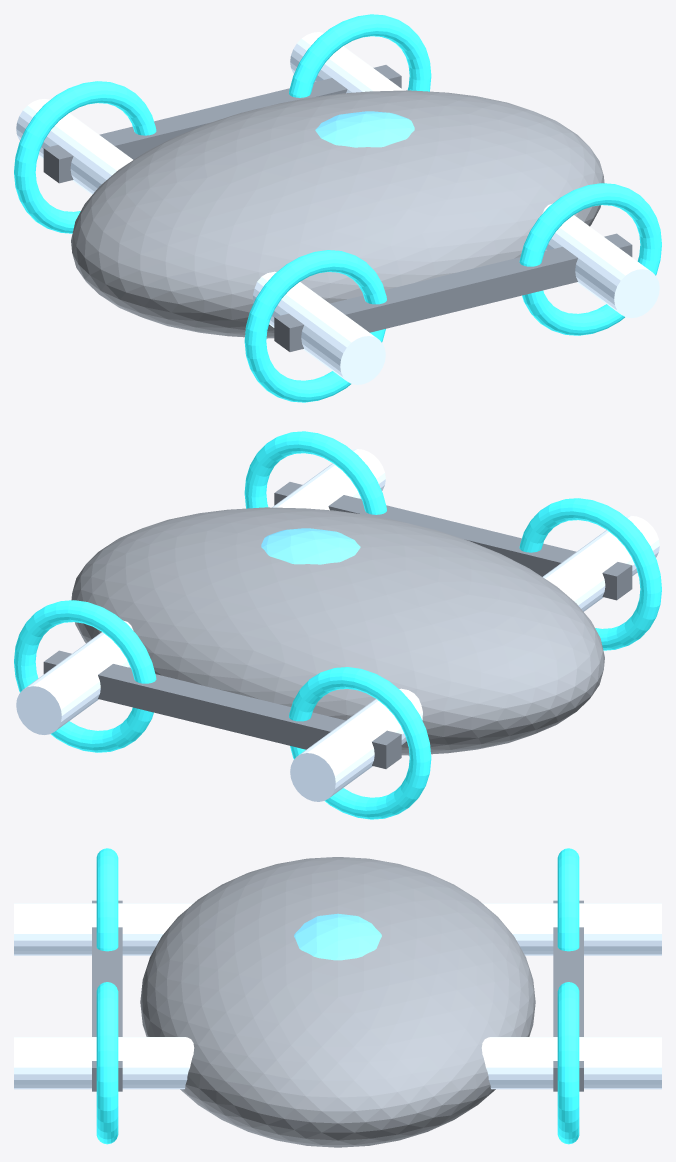
File: sky_drone.glb
The picture shows the model from 3 angles, top to bottom: view 1: azimuth 30°, elevation 25°; view 2: azimuth 150°, elevation 25°; view 3: azimuth 270°, elevation 25°; orthographic projection.
Visible parts, largest first — view 1: body, arm_1, ring_b_1, ring_f_1, ring_b_-1, engine_b_1, engine_f_1, arm_-1, ring_f_-1, engine_b_-1, canopy, engine_f_-1; view 2: body, arm_-1, ring_b_-1, ring_f_-1, ring_b_1, engine_b_-1, engine_f_-1, arm_1, ring_f_1, engine_b_1, canopy, engine_f_1; view 3: body, engine_f_-1, engine_f_1, engine_b_-1, engine_b_1, ring_f_-1, ring_f_1, canopy, ring_b_-1, ring_b_1, arm_-1, arm_1.
Boxes of the visible parts, <box> form: body: <box>71,90,604,338</box>; arm_1: <box>274,233,632,351</box>; ring_b_1: <box>244,250,386,402</box>; ring_f_1: <box>519,183,661,335</box>; ring_b_-1: <box>14,81,156,233</box>; engine_b_1: <box>253,271,385,384</box>; engine_f_1: <box>542,203,659,317</box>; arm_-1: <box>43,65,401,183</box>; ring_f_-1: <box>289,14,431,97</box>; engine_b_-1: <box>16,99,132,194</box>; canopy: <box>315,111,414,147</box>; engine_f_-1: <box>290,32,403,93</box>; body: <box>71,507,604,755</box>; arm_-1: <box>43,650,401,768</box>; ring_b_-1: <box>289,667,431,819</box>; ring_f_-1: <box>14,600,156,752</box>; ring_b_1: <box>519,498,661,650</box>; engine_b_-1: <box>290,688,422,801</box>; engine_f_-1: <box>16,620,133,734</box>; arm_1: <box>274,482,632,600</box>; ring_f_1: <box>244,431,386,514</box>; engine_b_1: <box>543,516,659,611</box>; canopy: <box>261,528,360,564</box>; engine_f_1: <box>272,449,385,510</box>; body: <box>140,857,535,1147</box>; engine_f_-1: <box>481,1037,661,1089</box>; engine_f_1: <box>14,1037,194,1089</box>; engine_b_-1: <box>482,903,661,955</box>; engine_b_1: <box>14,903,193,955</box>; ring_f_-1: <box>557,982,579,1144</box>; ring_f_1: <box>96,982,118,1144</box>; canopy: <box>294,913,381,960</box>; ring_b_-1: <box>557,848,579,951</box>; ring_b_1: <box>96,848,118,951</box>; arm_-1: <box>553,900,583,1091</box>; arm_1: <box>92,900,122,1091</box>.
Bounding box in the file's own units: 2.61 × 0.838 × 2.95.
